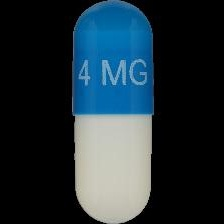35356-342: (0, 0, 224, 224)
